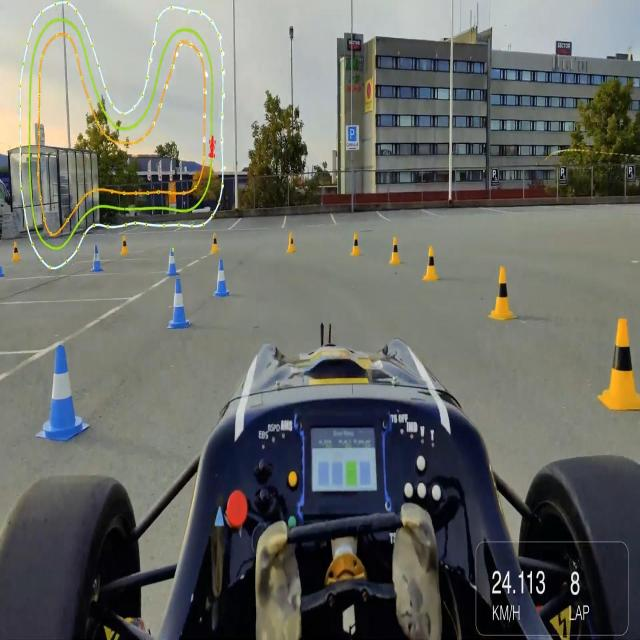blue_cone: (34, 340, 89, 443), (168, 279, 191, 331), (214, 258, 231, 299), (90, 244, 104, 274), (165, 247, 178, 278)
yellow_cone: (598, 312, 640, 416), (489, 262, 516, 322), (424, 245, 438, 282), (389, 234, 403, 266), (349, 230, 362, 258), (10, 241, 22, 263), (287, 229, 297, 255), (120, 232, 129, 256), (210, 231, 220, 252)
